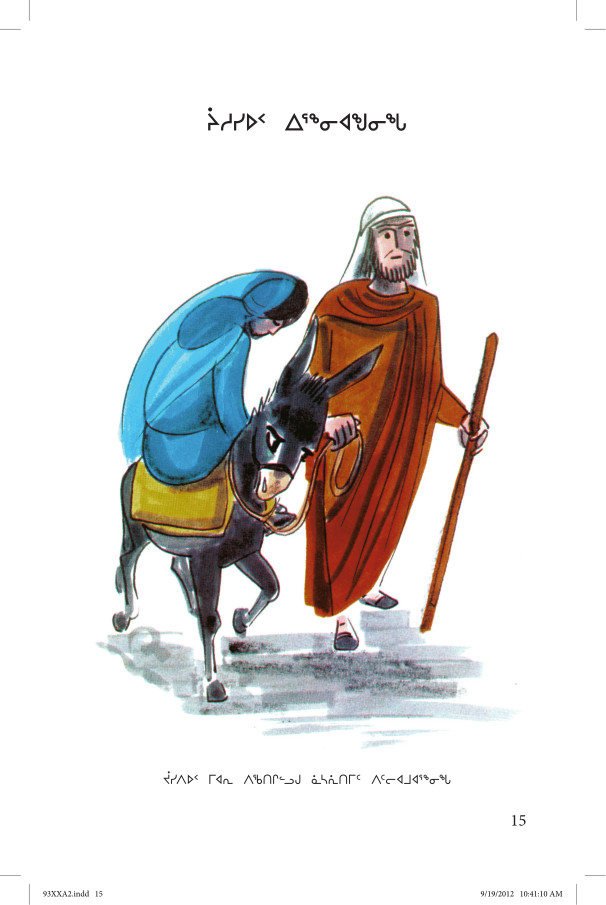inuktitut: (197, 97, 414, 135), (152, 763, 456, 789)
